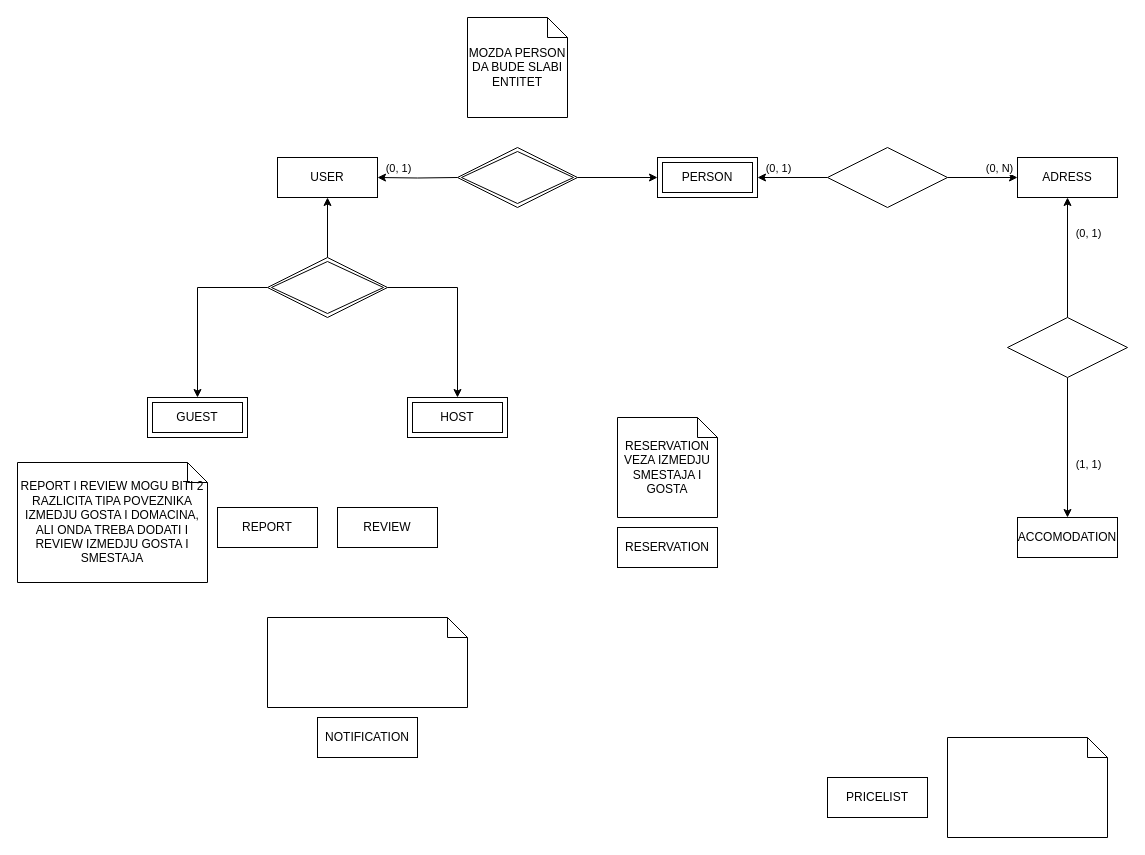
This 1145x855 diagram has some shape labels left out. Each missing label, with the box of its shape:
HAS: (826, 146, 948, 208)
IS: (456, 146, 578, 208)
IS-A: (266, 256, 388, 318)
LOCATED: (1006, 316, 1128, 378)
NOTIFIKACIJE IDU IZ SISTEMA KA KORISNIKU (ALI NE I ADMINU): (266, 616, 468, 708)
PRICELIST BI TREBALO UVEZATI U LANAC SLABIH ENTITETA KAO U BAZAMA: (946, 736, 1108, 838)
